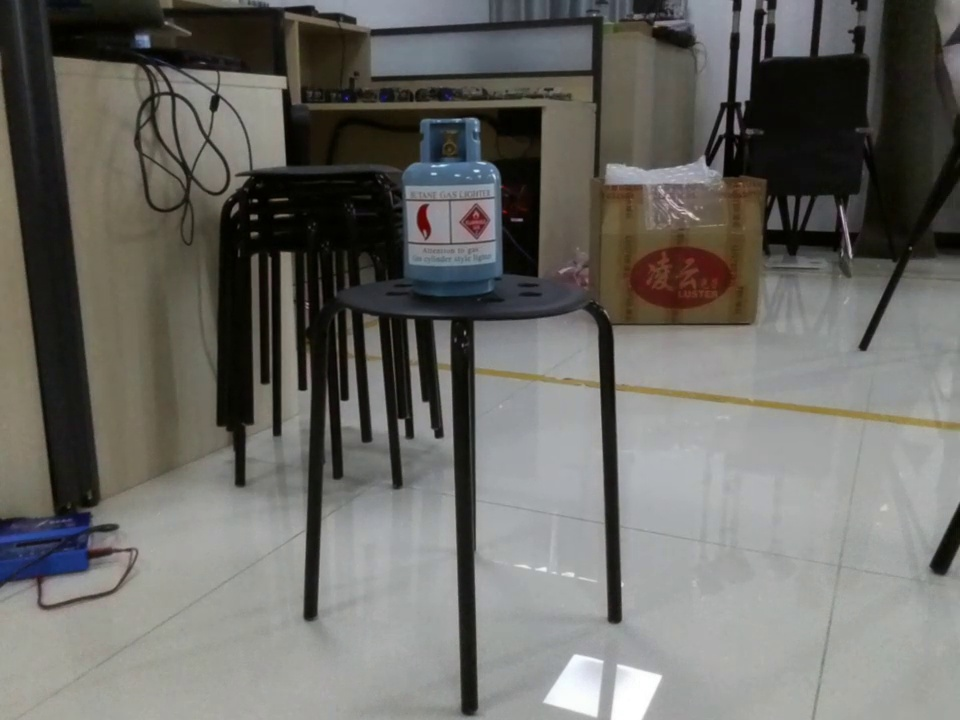gas tank: (396, 110, 508, 302)
